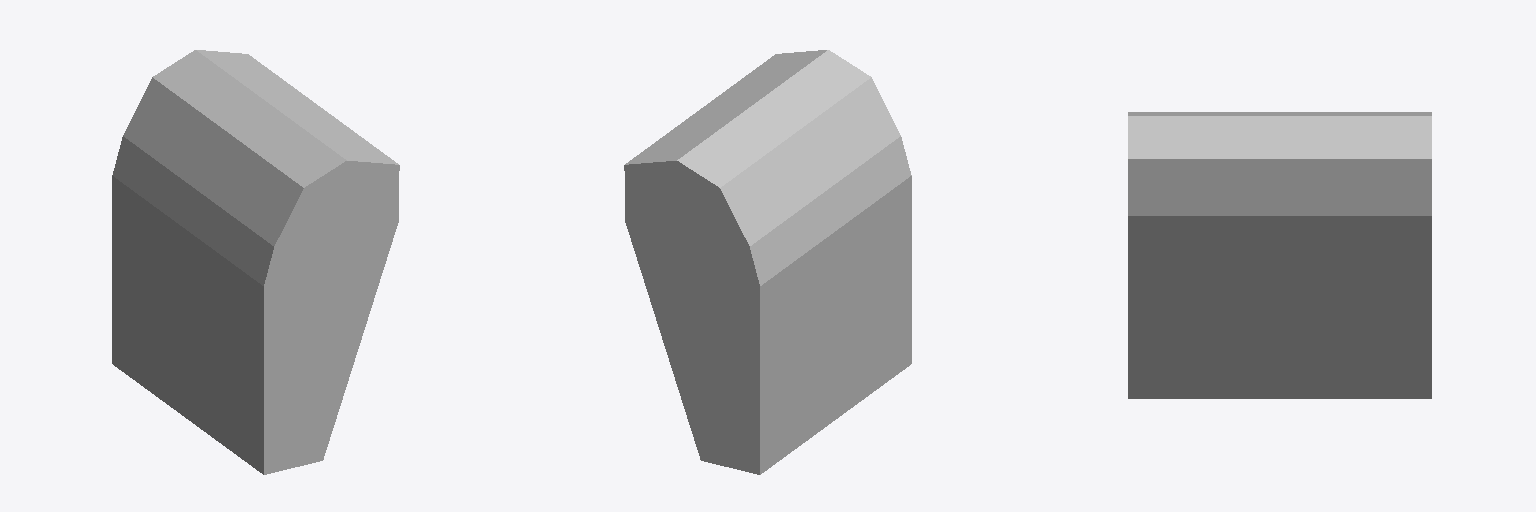
File: SofaRightArm_ConvexMesh.obj
The picture shows the model from 3 angles: view 1: azimuth 30°, elevation 25°; view 2: azimuth 150°, elevation 25°; view 3: azimuth 270°, elevation 25°; orthographic projection.
Visible parts, largest first — view 1: SofaRightArm_ConvexMesh; view 2: SofaRightArm_ConvexMesh; view 3: SofaRightArm_ConvexMesh.
Boxes of the visible parts, box(x1,y1,x2,y2) form: SofaRightArm_ConvexMesh: box(112, 50, 399, 474); SofaRightArm_ConvexMesh: box(624, 50, 911, 474); SofaRightArm_ConvexMesh: box(1128, 112, 1431, 398).
Size of the model in its own units: 0.4208 by 0.8721 by 0.8136.